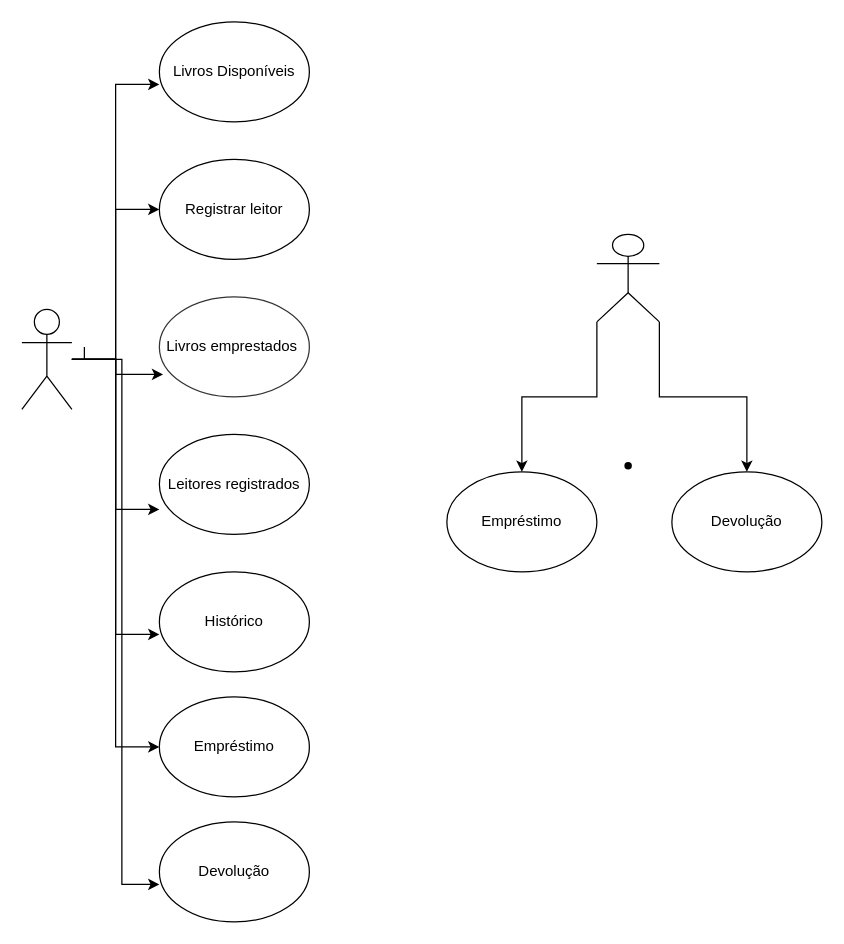
The diagram is 844 pixels wide and 944 high, and some of its shapes have lost their labels. The shapes that lost their labels are listed below. From the top down, each one's centre as x and y in pixels, then its label:
the point at 627,277: Bibliotecário
the point at 46,358: Leitor
